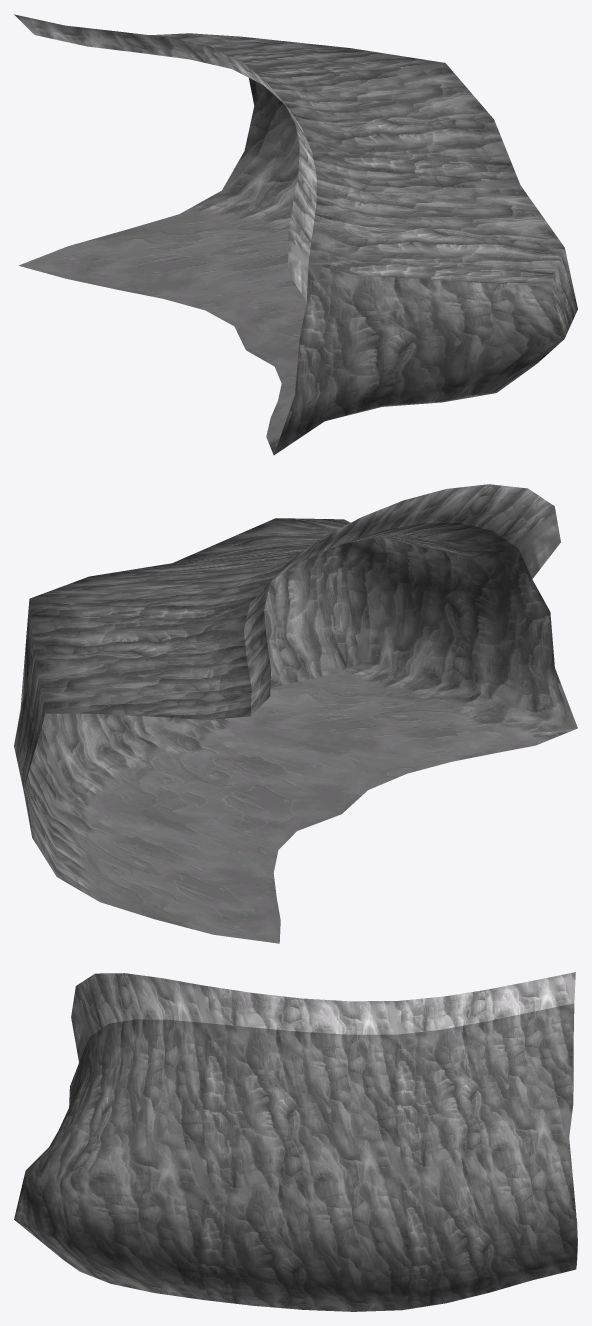
Rendered from SWORDLIGHT20_PS-AREA03_23.fbx.
The picture shows the model from 3 angles, top to bottom: view 1: azimuth 30°, elevation 25°; view 2: azimuth 150°, elevation 25°; view 3: azimuth 270°, elevation 25°; orthographic projection. The views are drawn at different scales.
Parts seen in each view (by area): view 1: SWORDLIGHT20_PS-AREA03_23; view 2: SWORDLIGHT20_PS-AREA03_23; view 3: SWORDLIGHT20_PS-AREA03_23.
Part boxes in pixels (bbox=[...]): SWORDLIGHT20_PS-AREA03_23: bbox=[14, 14, 577, 455]; SWORDLIGHT20_PS-AREA03_23: bbox=[14, 484, 577, 943]; SWORDLIGHT20_PS-AREA03_23: bbox=[14, 972, 577, 1311].
Bounding box in the file's own units: 100719 × 72605 × 152195.
5 materials, 5 textured.
